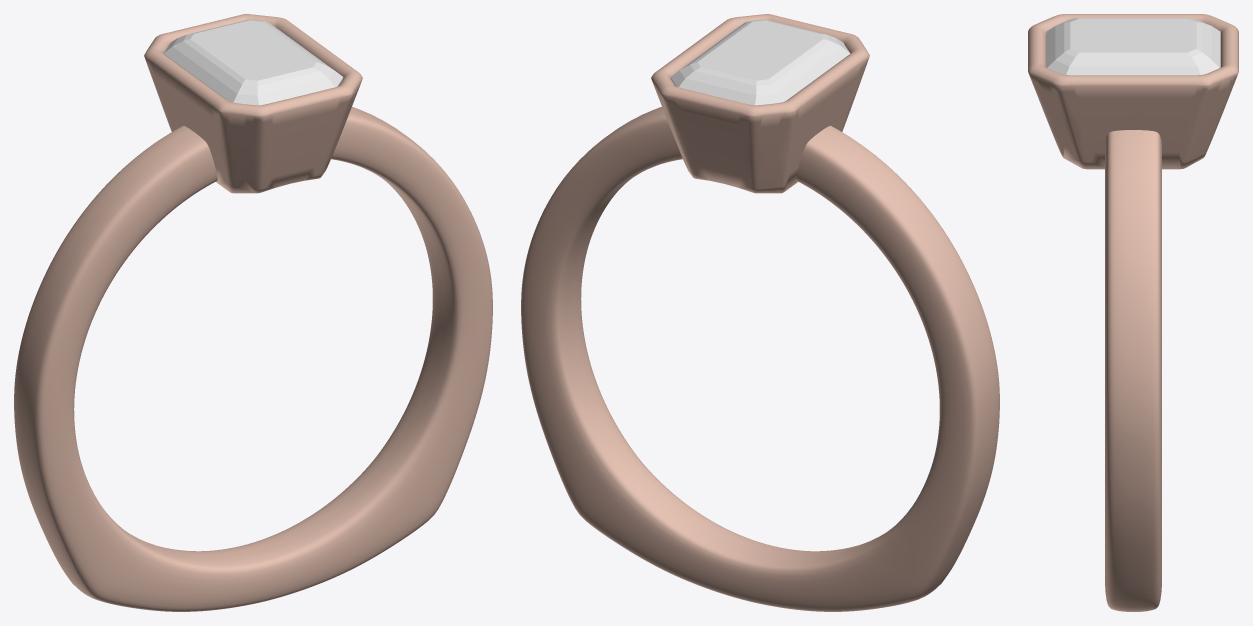
The model's file is diamond-emerald-rosegold-bezelset-europeanshank-solitaire.glb.
3 views of the same model, side by side, from view 1: azimuth 30°, elevation 25°; view 2: azimuth 150°, elevation 25°; view 3: azimuth 270°, elevation 25° (orthographic).
Visible parts, largest first — view 1: metal, stone; view 2: metal, stone; view 3: metal, stone.
Part boxes in pixels (<box>): metal: <box>14,14,492,611</box>; stone: <box>163,19,343,105</box>; metal: <box>521,14,999,611</box>; stone: <box>670,19,850,105</box>; metal: <box>1028,14,1238,611</box>; stone: <box>1046,18,1220,75</box>.
Size of the model in its own units: 20.1 by 22.75 by 8.11.
